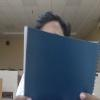notebook: (22, 25, 99, 99)
